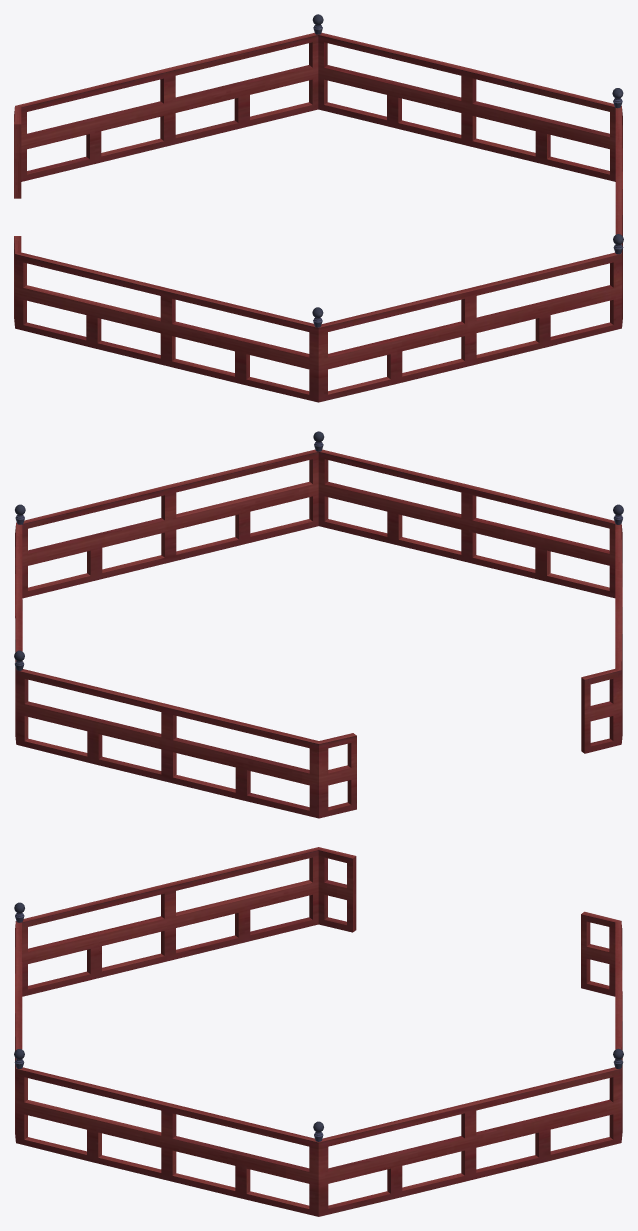
Rendered from vip-barrier01-art.glb.
The picture shows the model from 3 angles, top to bottom: view 1: azimuth 30°, elevation 25°; view 2: azimuth 150°, elevation 25°; view 3: azimuth 270°, elevation 25°; orthographic projection.
Parts seen in each view (by area): view 1: VipBarrier01_Art; view 2: VipBarrier01_Art; view 3: VipBarrier01_Art.
Part boxes in pixels (x1,y1,x2,y2): VipBarrier01_Art: (14, 14, 623, 402); VipBarrier01_Art: (14, 431, 623, 818); VipBarrier01_Art: (14, 847, 623, 1216).
Size of the model in its own units: 27.77 by 4.06 by 24.19.
Materials: 1 (1 with a texture image).
